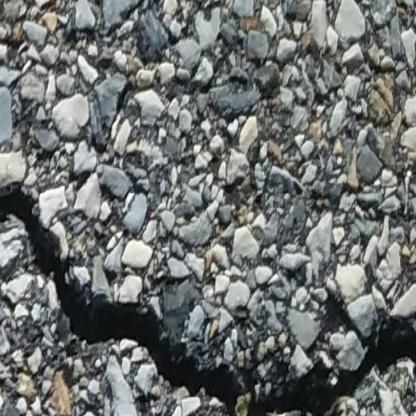Cracks: (0, 177, 416, 416)
